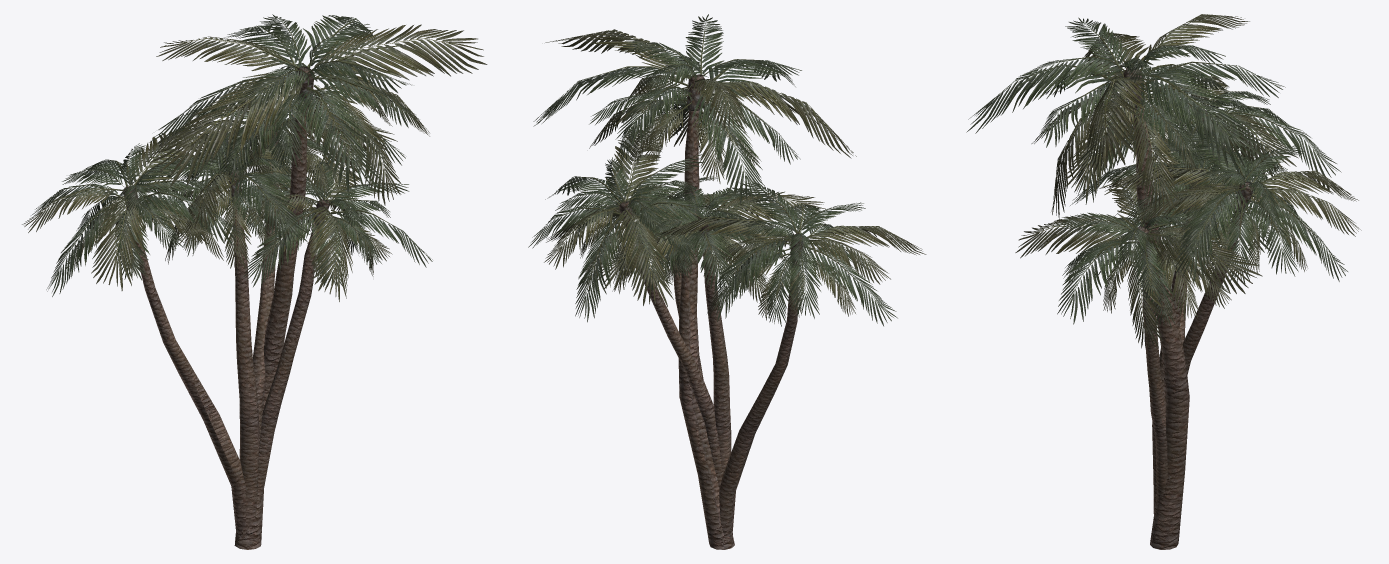
The model's file is beachPalms.glb.
3 renders of one model, left to right at view 1: azimuth 30°, elevation 25°; view 2: azimuth 150°, elevation 25°; view 3: azimuth 270°, elevation 25°, orthographic. The views are drawn at different scales.
Parts seen in each view (by area): view 1: palm0, palm3, palm2, palm4, palm1; view 2: palm0, palm3, palm1, palm4, palm2; view 3: palm0, palm2, palm1, palm3, palm4.
Part boxes in pixels (box(x1,y1,x2,y2)): palm0: box(149, 14, 487, 549); palm3: box(22, 128, 247, 535); palm2: box(218, 152, 432, 501); palm4: box(122, 132, 335, 541); palm1: box(141, 101, 405, 539); palm0: box(533, 14, 856, 549); palm3: box(654, 180, 926, 538); palm1: box(528, 128, 739, 540); palm4: box(592, 184, 826, 541); palm2: box(546, 176, 770, 379); palm0: box(966, 14, 1285, 549); palm2: box(1015, 169, 1276, 505); palm1: box(1099, 126, 1361, 396); palm3: box(1080, 75, 1341, 343); palm4: box(1070, 119, 1317, 513).
Bounding box in the file's own units: 10.22 × 11.83 × 8.4.
1 material, 1 textured.
